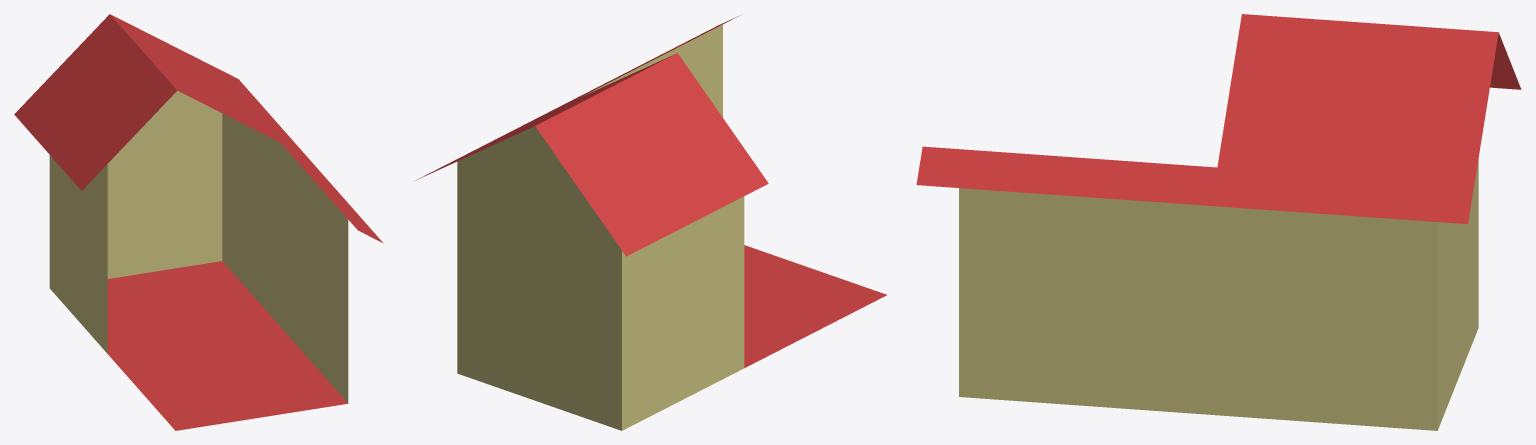
3 views of the same model, side by side, from view 1: azimuth 30°, elevation 25°; view 2: azimuth 150°, elevation 25°; view 3: azimuth 270°, elevation 25° (orthographic). The views are drawn at different scales.
Size of the model in its own units: 9.92 by 16.31 by 10.1.
